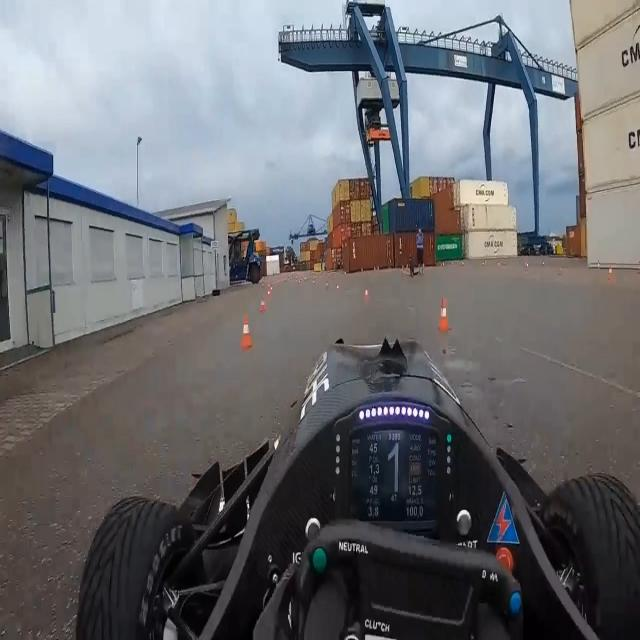Orange cone: (429, 286, 464, 348), (234, 304, 257, 359), (323, 267, 344, 298), (262, 272, 280, 305), (253, 287, 270, 321), (359, 274, 376, 307)
